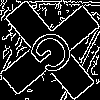G: (25, 25, 84, 86)
